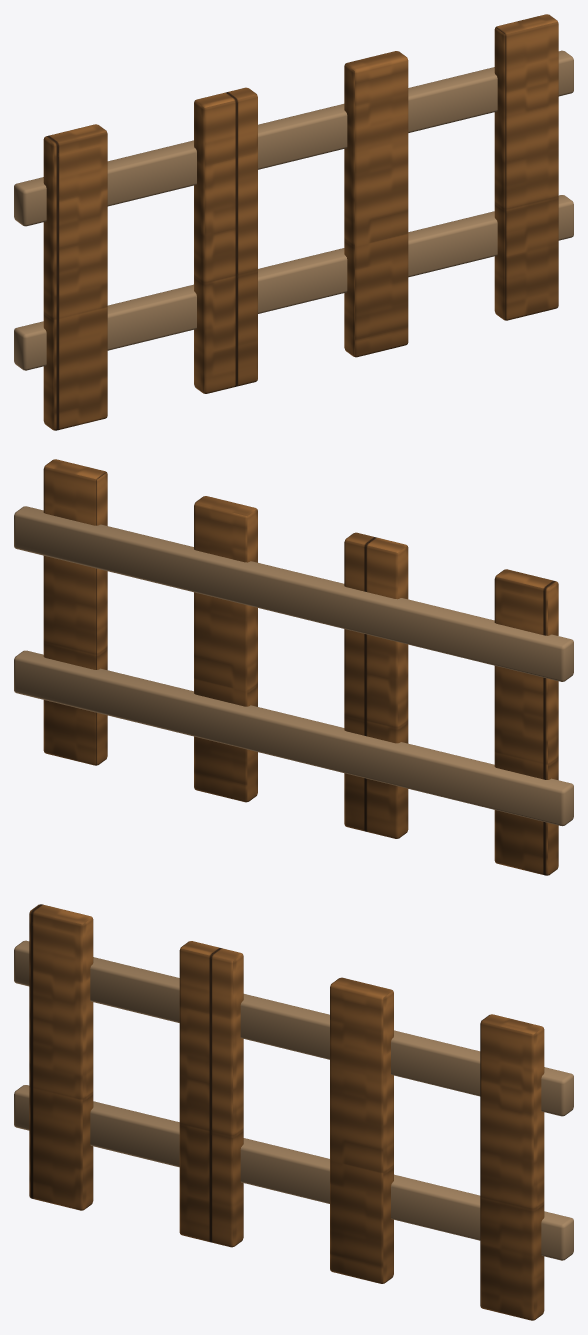
File: wooden_fence.glb
3 views of the same model, one above another, from view 1: azimuth 30°, elevation 25°; view 2: azimuth 150°, elevation 25°; view 3: azimuth 330°, elevation 25° (orthographic).
Visible parts, largest first — view 1: Slat_0.3, Slat_-0.9, Slat_0.9, Slat_-0.3, RailTop, RailBot; view 2: RailTop, RailBot, Slat_0.9, Slat_-0.9, Slat_-0.3, Slat_0.3; view 3: Slat_-0.3, Slat_0.9, Slat_-0.9, Slat_0.3, RailTop, RailBot.
Part boxes in pixels (<box>): Slat_0.3: <box>344,51,408,357</box>; Slat_-0.9: <box>43,124,107,430</box>; Slat_0.9: <box>494,14,558,320</box>; Slat_-0.3: <box>194,87,257,393</box>; RailTop: <box>14,50,573,226</box>; RailBot: <box>14,195,573,370</box>; RailTop: <box>14,506,573,681</box>; RailBot: <box>14,650,573,826</box>; Slat_0.9: <box>43,459,107,765</box>; Slat_-0.9: <box>494,569,558,875</box>; Slat_-0.3: <box>344,532,408,838</box>; Slat_0.3: <box>194,496,257,802</box>; Slat_-0.3: <box>179,941,243,1247</box>; Slat_0.9: <box>480,1014,544,1320</box>; Slat_-0.9: <box>29,904,93,1210</box>; Slat_0.3: <box>330,977,393,1283</box>; RailTop: <box>14,940,573,1116</box>; RailBot: <box>14,1085,573,1260</box>.
Size of the model in its own units: 2.2 by 1.1 by 0.13.
Materials: 2 (1 with a texture image).
